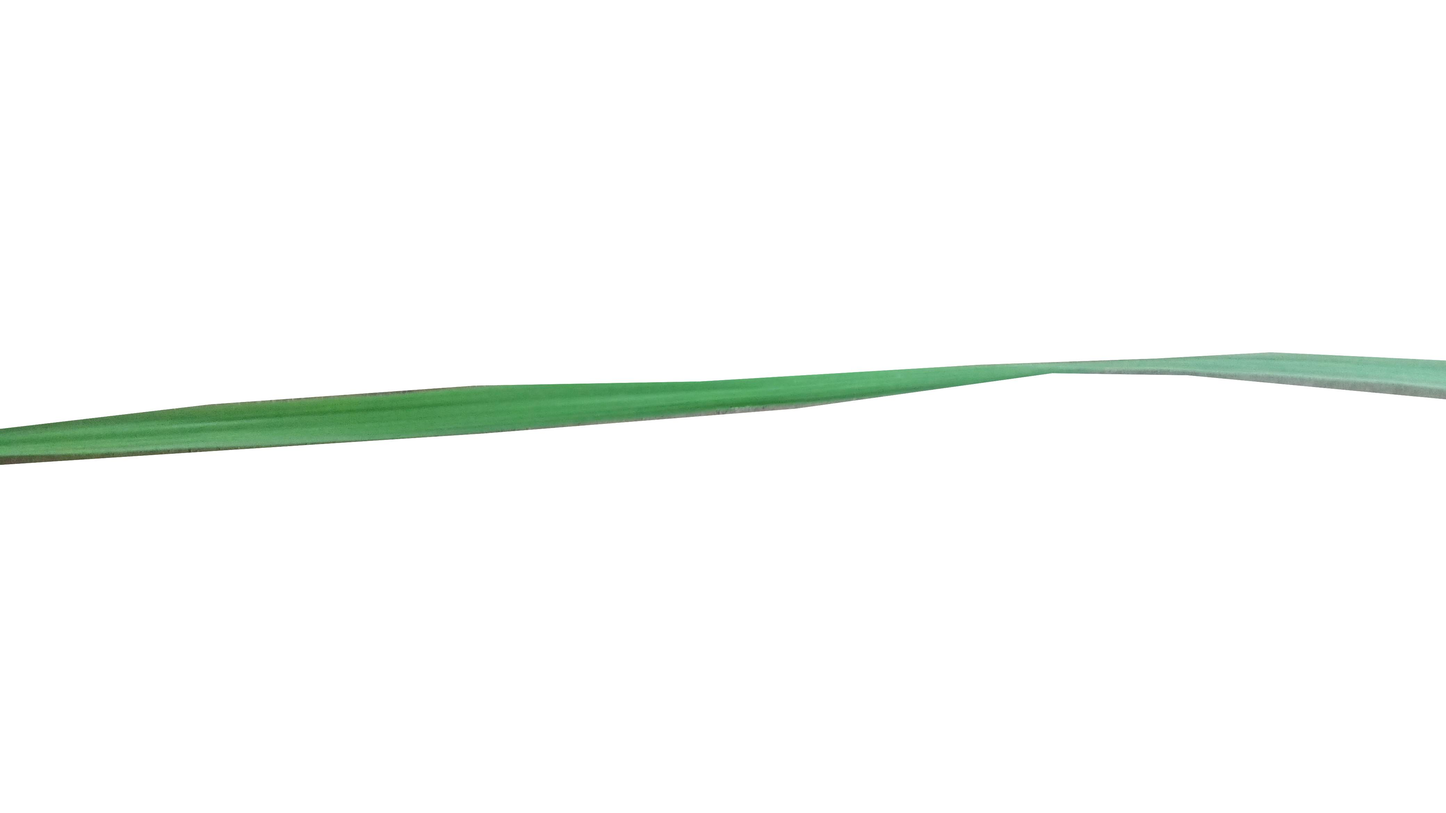Healthy: (0, 344, 1446, 453)
